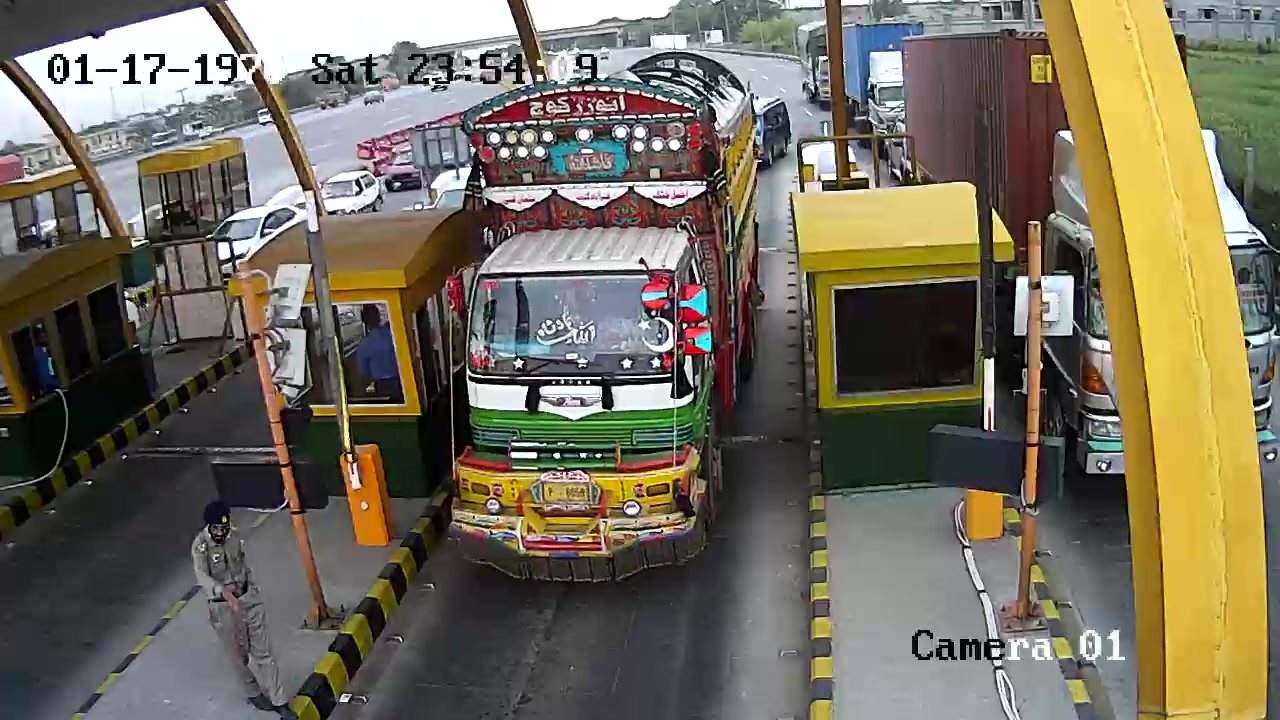F5: (429, 50, 786, 588)
